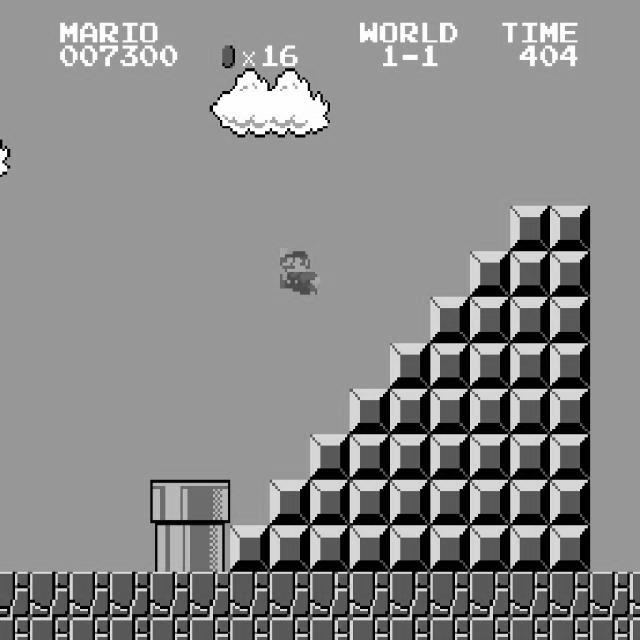11- little_mario: (277, 246, 320, 294)
14- pipe: (150, 526, 190, 572), (190, 526, 230, 572)
15- pipe_head: (150, 480, 190, 526), (190, 480, 230, 526)
17- undestructible_block: (30, 572, 70, 618), (70, 572, 110, 618), (110, 572, 150, 618), (150, 572, 190, 618), (190, 572, 230, 618), (230, 572, 270, 618), (270, 572, 310, 618), (310, 572, 350, 618), (350, 572, 390, 618), (390, 572, 430, 618), (430, 572, 470, 618), (470, 572, 510, 618), (510, 572, 550, 618), (550, 572, 590, 618), (590, 572, 630, 618), (0, 572, 30, 618), (30, 617, 70, 640), (70, 617, 110, 640), (110, 617, 150, 640), (150, 617, 190, 640), (190, 617, 230, 640), (230, 617, 270, 640), (270, 617, 310, 640), (310, 617, 350, 640), (350, 617, 390, 640), (390, 617, 430, 640), (430, 617, 470, 640), (470, 617, 510, 640), (510, 617, 550, 640), (550, 617, 590, 640), (590, 617, 630, 640), (0, 617, 30, 640), (629, 571, 640, 617), (629, 617, 640, 639)
9- hard_block: (230, 526, 270, 572), (270, 480, 310, 526), (270, 526, 310, 572), (310, 434, 350, 480), (310, 480, 350, 526), (310, 526, 350, 572), (350, 388, 390, 434), (350, 434, 390, 480), (350, 480, 390, 526), (350, 526, 390, 572), (390, 388, 430, 434), (390, 434, 430, 480), (390, 480, 430, 526), (390, 526, 430, 572), (430, 297, 470, 343), (430, 388, 470, 434), (430, 434, 470, 480), (430, 480, 470, 526), (430, 526, 470, 572), (470, 252, 510, 298), (470, 297, 510, 343), (470, 388, 510, 434), (470, 434, 510, 480), (470, 480, 510, 526), (470, 526, 510, 572), (510, 252, 550, 298), (510, 297, 550, 343), (510, 388, 550, 434), (510, 434, 550, 480), (510, 480, 550, 526), (510, 526, 550, 572), (550, 252, 590, 298), (550, 297, 590, 343), (550, 388, 590, 434), (550, 434, 590, 480), (550, 480, 590, 526), (550, 526, 590, 572), (390, 343, 430, 388), (430, 343, 470, 388), (470, 343, 510, 388), (510, 206, 550, 251), (510, 343, 550, 388), (550, 206, 590, 251), (550, 343, 590, 388)
